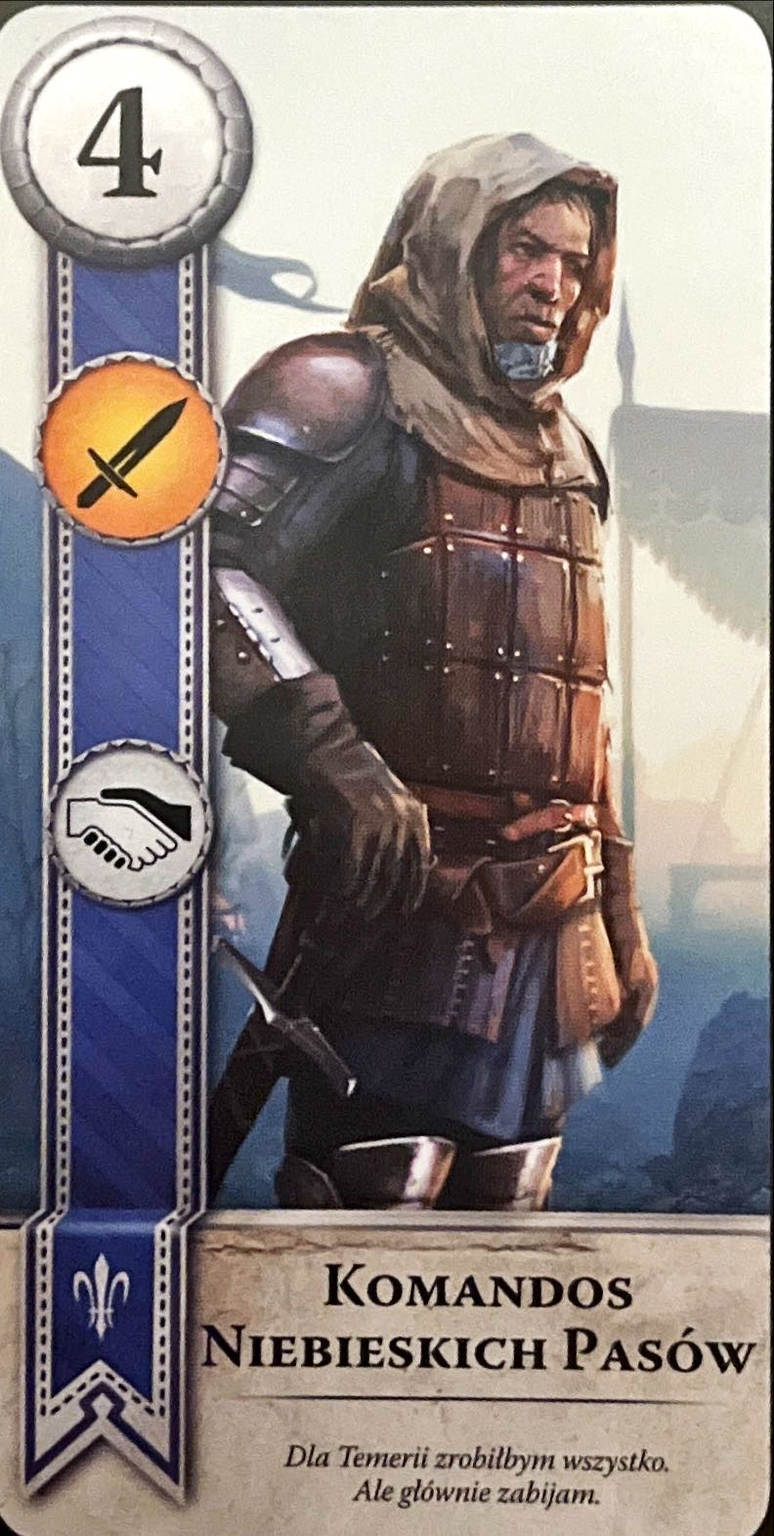4: (0, 14, 255, 266)
miecz: (31, 350, 228, 549)
wiez: (48, 737, 214, 911)
